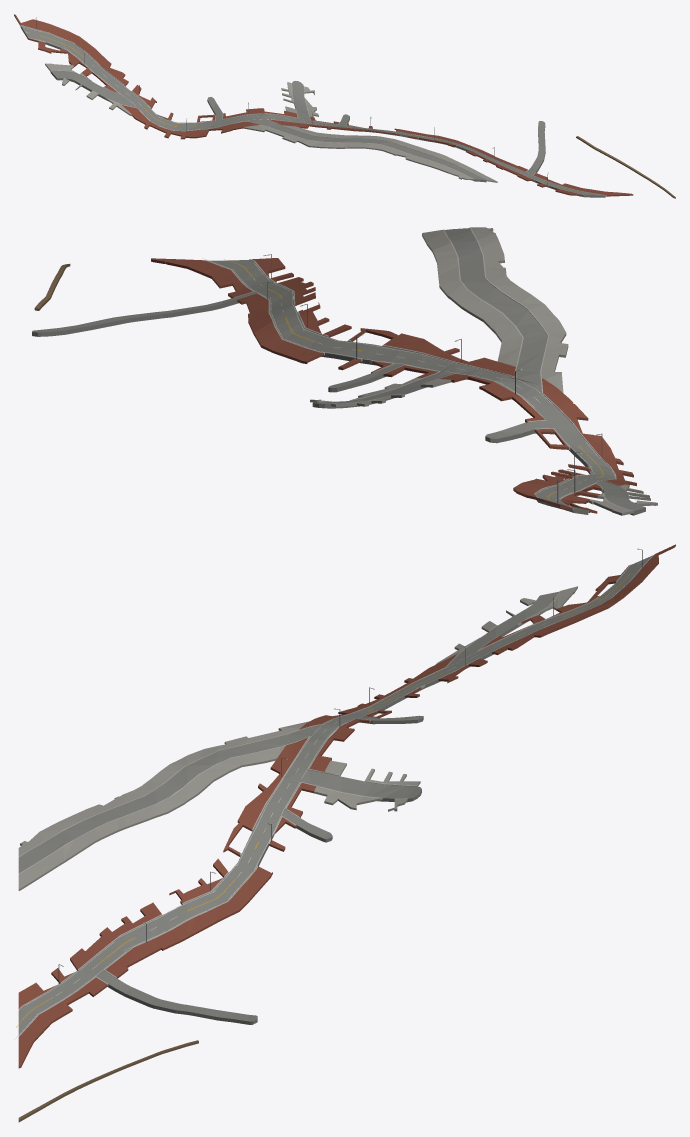
3 views of the same model, one above another, from view 1: azimuth 30°, elevation 25°; view 2: azimuth 150°, elevation 25°; view 3: azimuth 270°, elevation 25° (orthographic). The views are drawn at different scales.
Bounding box in the file's own units: 269 × 82.27 × 214.
